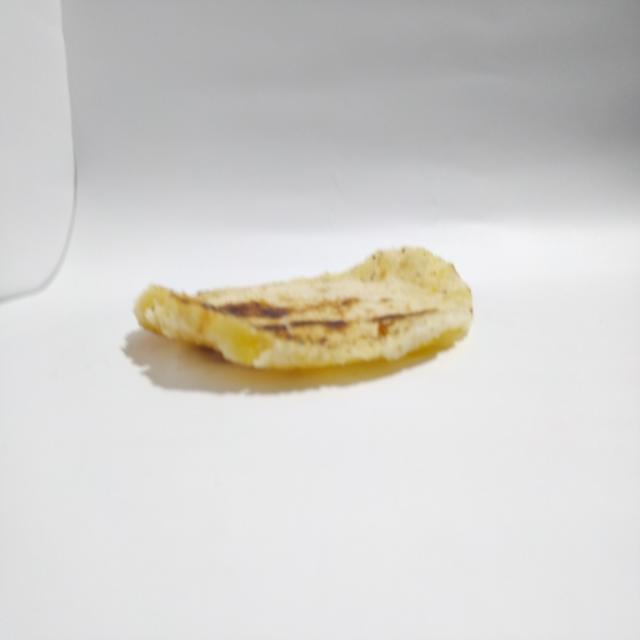Food: (121, 220, 482, 394)
